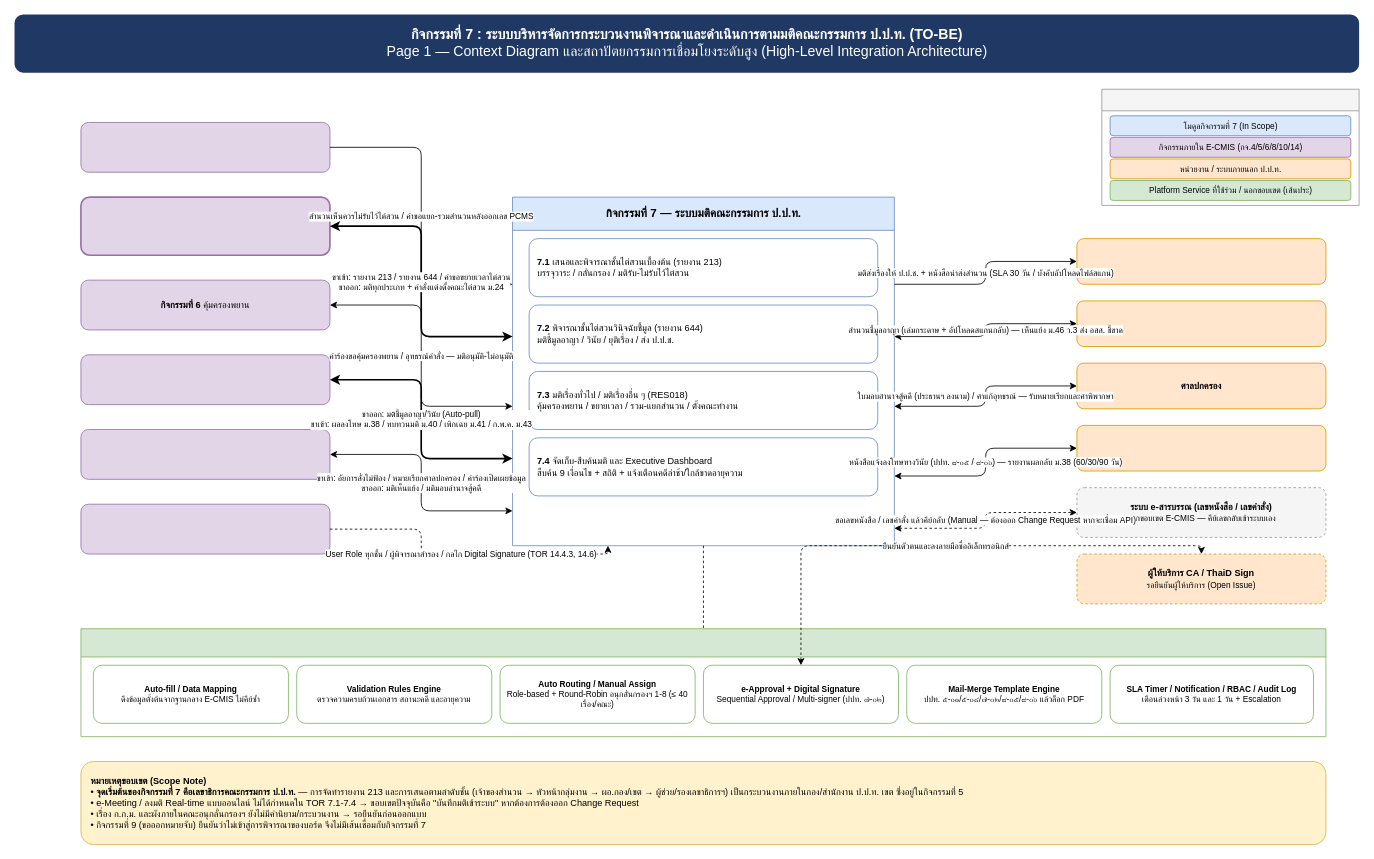
Image size: 1374x859. Some labels were removed from this diagram. Each missing label, with the box of its shape:
Digital Platform Services (ใช้ร่วมทุกโมดูลของกิจกรรมที่ 7): (80, 628, 1326, 737)
กิจกรรมที่ 10 กฎหมายในทางคดี (ผ่านกองกฎหมาย กกม.): (80, 429, 330, 479)
กิจกรรมที่ 14 บริหารผู้ใช้ สิทธิ์ และลายมือชื่อดิจิทัล: (80, 503, 330, 554)
กิจกรรมที่ 4 รับเรื่องร้องเรียน: (80, 122, 330, 172)
กิจกรรมที่ 5 ไต่สวนข้อเท็จจริง (จุดเชื่อมสำคัญที่สุด — สองทาง): (80, 196, 330, 256)
กิจกรรมที่ 8 ตรวจสอบประวัติและกระบวนงานภายหลังมติ: (80, 354, 330, 405)
สัญลักษณ์สี: (1101, 88, 1359, 205)
สำนักงาน ป.ป.ช.: (1076, 238, 1326, 284)
สำนักงานอัยการสูงสุด / พนักงานอัยการ: (1076, 300, 1326, 347)
หน่วยงานต้นสังกัดของผู้ถูกกล่าวหา: (1076, 425, 1326, 471)
